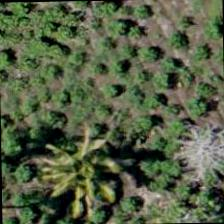Kelapa_Sawit: (34, 128, 126, 220)
